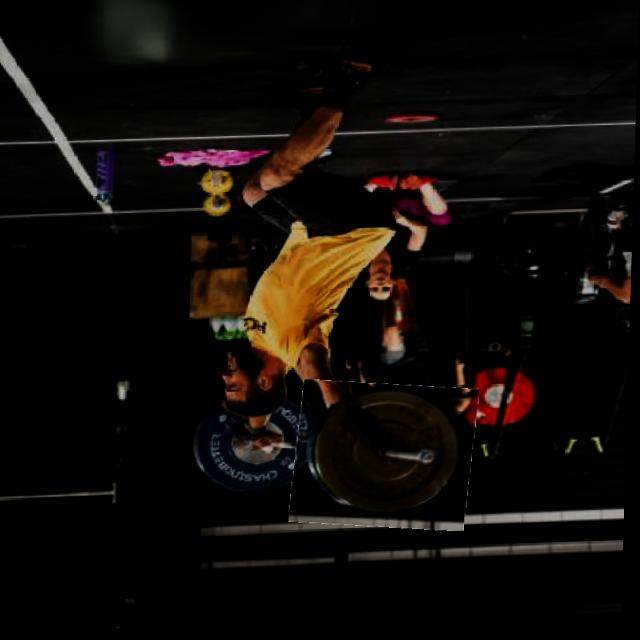barbell: (295, 382, 479, 535)
